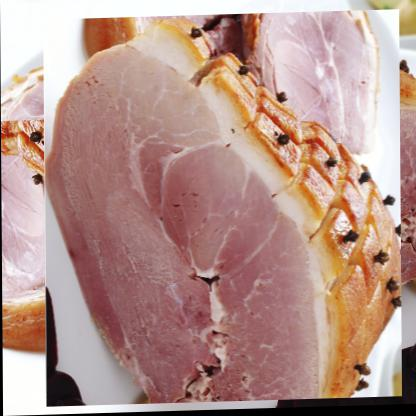cooked_meat: (36, 20, 410, 401), (1, 84, 206, 323)
